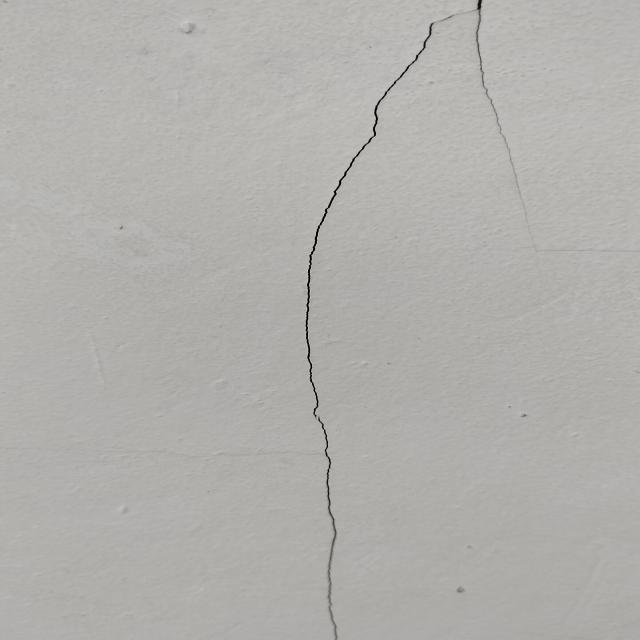Crack: (298, 4, 476, 640)
